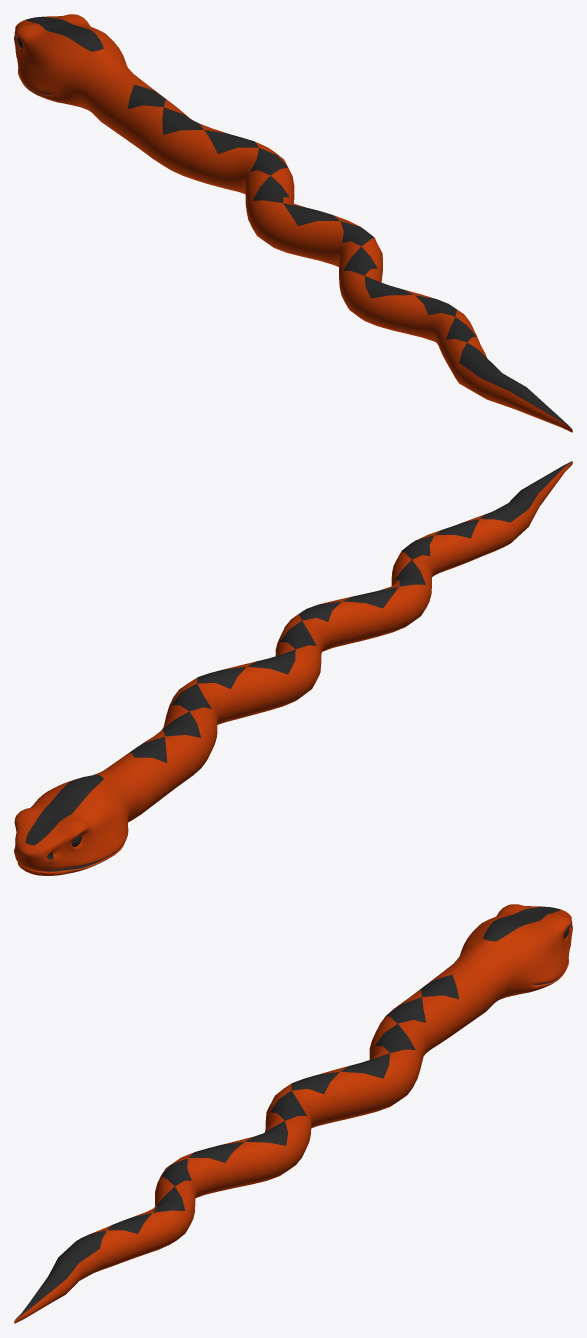
File: Snake.fbx
The picture shows the model from 3 angles, top to bottom: view 1: azimuth 30°, elevation 25°; view 2: azimuth 150°, elevation 25°; view 3: azimuth 330°, elevation 25°; orthographic projection.
Parts seen in each view (by area): view 1: Snake.001; view 2: Snake.001; view 3: Snake.001.
Boxes of the visible parts, x1=… form: Snake.001: x1=14, y1=14, x2=572, y2=432; Snake.001: x1=14, y1=461, x2=572, y2=875; Snake.001: x1=14, y1=904, x2=572, y2=1323.
Bounding box in the file's own units: 1.75 × 1.15 × 17.21.
